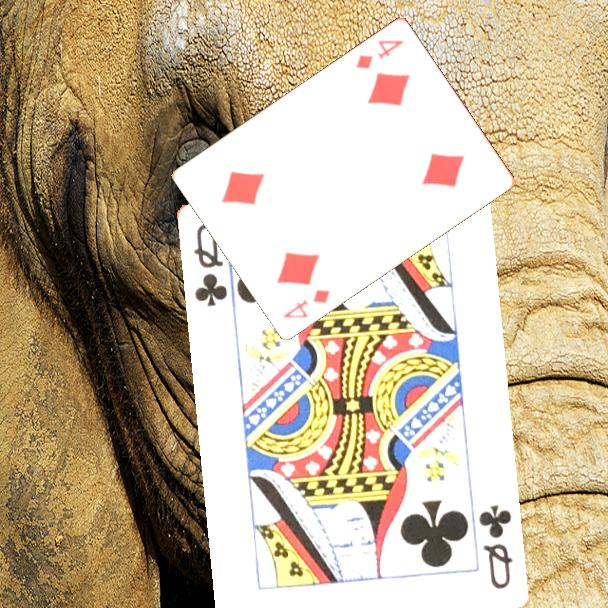c12: (190, 219, 230, 309), (475, 501, 515, 591)
d04: (279, 285, 333, 321), (352, 36, 406, 71)
